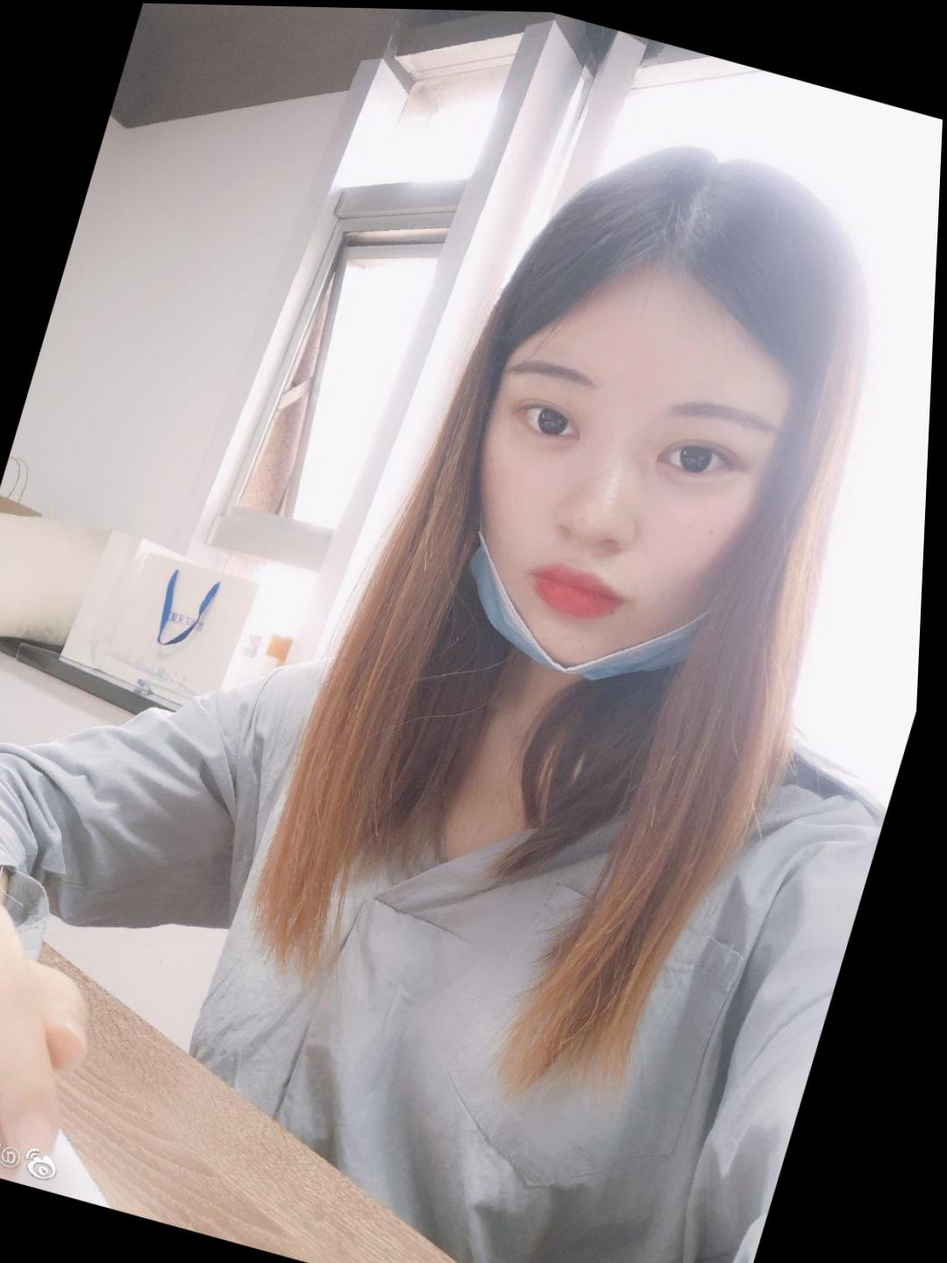WRONG: (428, 296, 819, 718)
